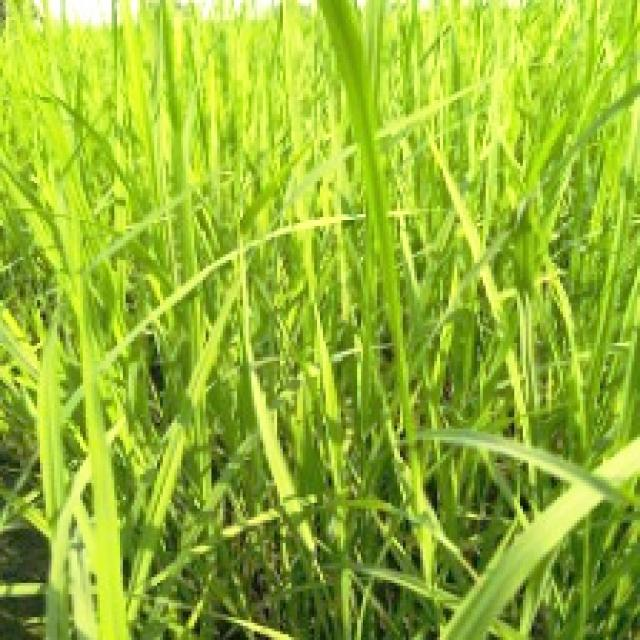health: (23, 188, 140, 640)
